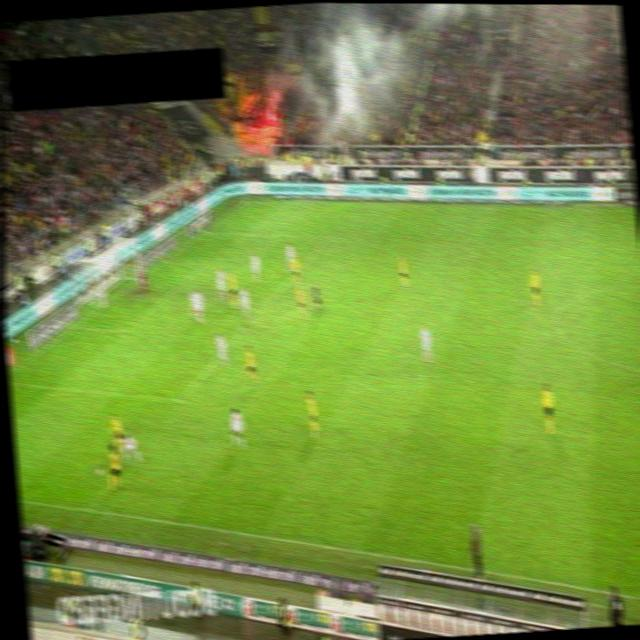bigarea_bottom_inner: (173, 393, 186, 405)
bigarea_top_inner: (322, 229, 335, 240)
bigarea_top_outter: (197, 225, 211, 236)
bottom_arc_area_intersection: (236, 323, 250, 335)
corner: (238, 194, 252, 207)
smallarea_bottom_inner: (117, 322, 131, 335)
smallarea_bottom_outter: (67, 320, 81, 333)
smallarea_top_inner: (199, 257, 213, 268)
smallarea_top_outter: (157, 254, 171, 266)
top_arc_area_intersection: (287, 266, 302, 278)
